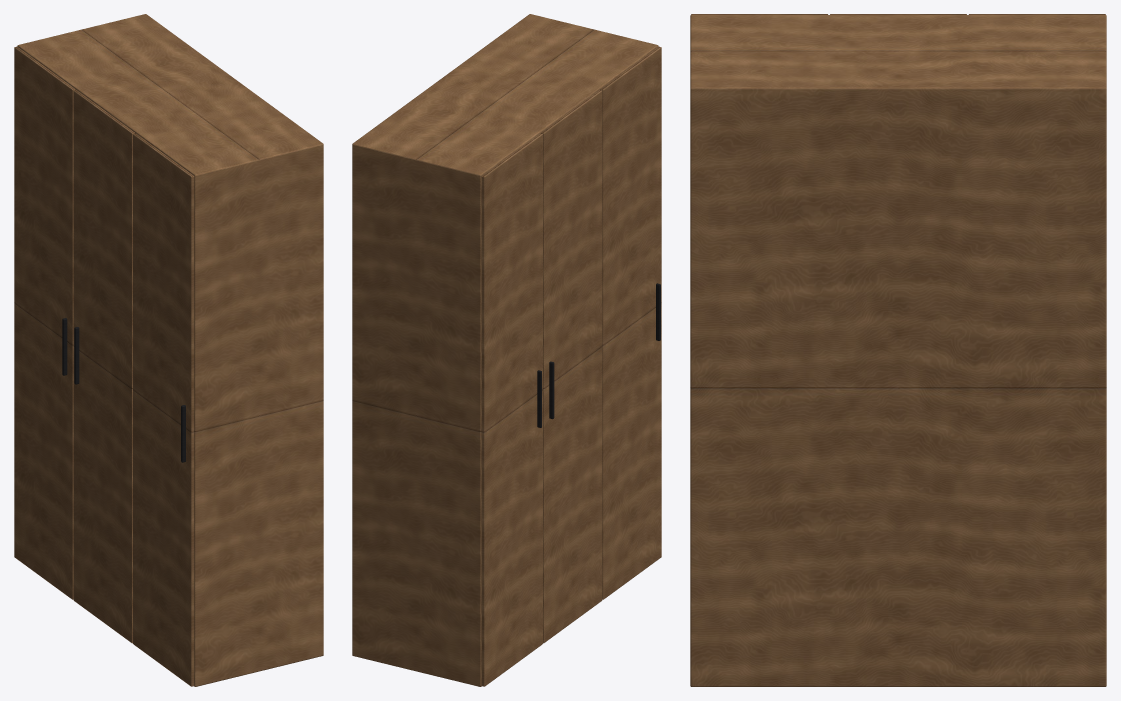
The model's file is robe_wardrobe.glb.
The picture shows the model from 3 angles, left to right: view 1: azimuth 30°, elevation 25°; view 2: azimuth 150°, elevation 25°; view 3: azimuth 270°, elevation 25°; orthographic projection. The views are drawn at different scales.
Visible parts, largest first — view 1: robe_wardrobe; view 2: robe_wardrobe; view 3: robe_wardrobe.
Boxes of the visible parts, box(x1,y1,x2,y2) form: robe_wardrobe: box(14, 14, 323, 686); robe_wardrobe: box(352, 14, 661, 686); robe_wardrobe: box(690, 14, 1106, 686).
Size of the model in its own units: 0.656 by 2.35 by 1.48.
2 materials, 2 textured.
